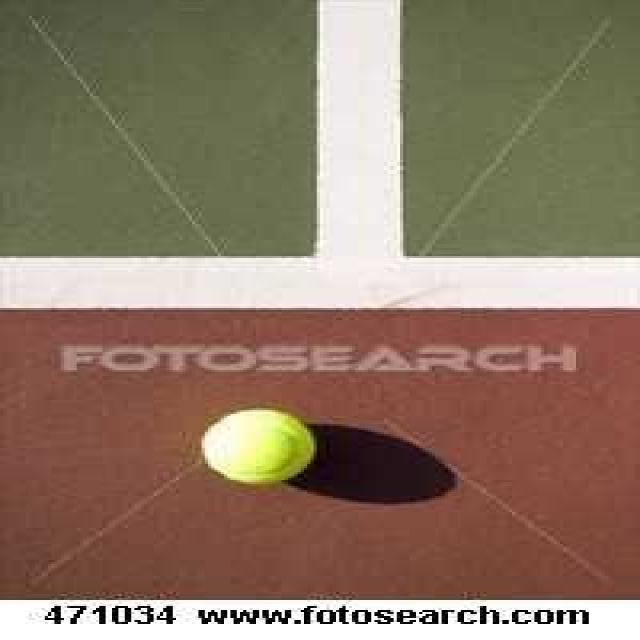Tennis_Ball: (207, 406, 315, 486)
